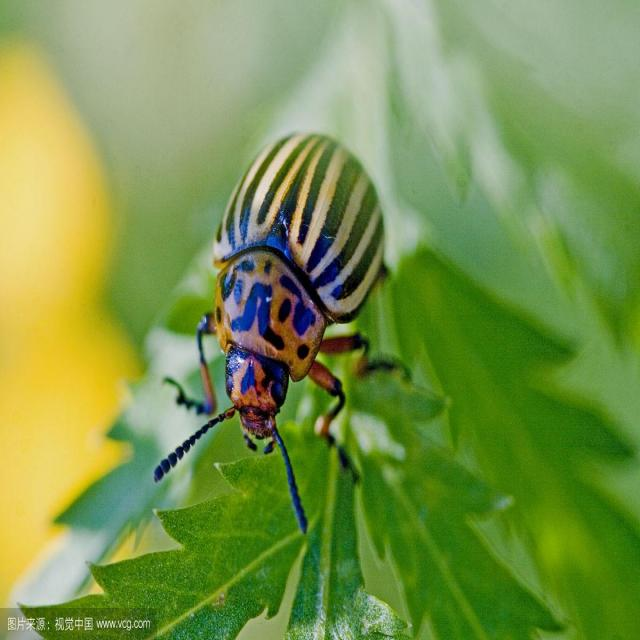ShuCaiHuaBanChong-Grown-: (149, 105, 384, 486)
